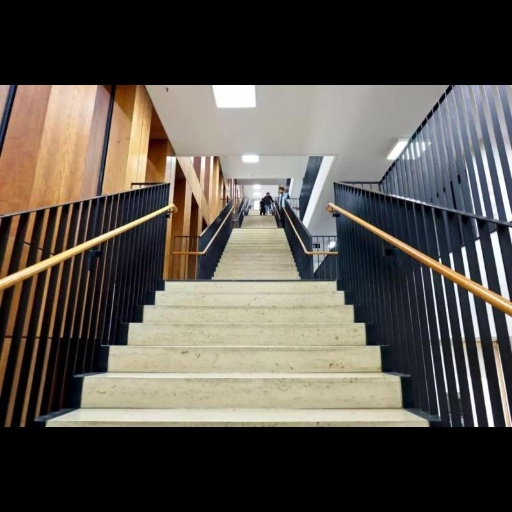Stairs: (48, 216, 428, 426)
